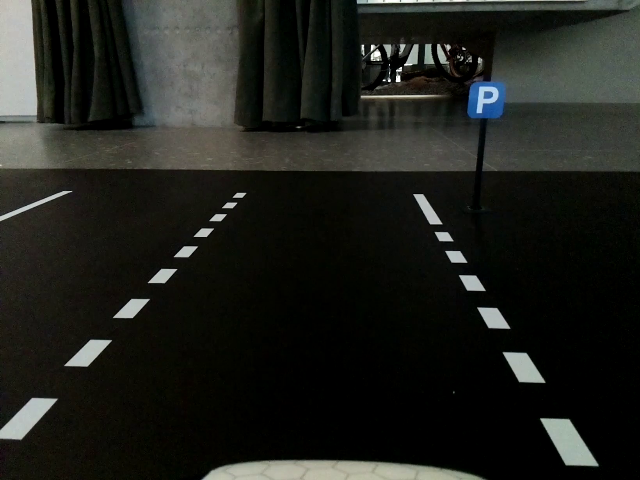park: (469, 85, 505, 118)
